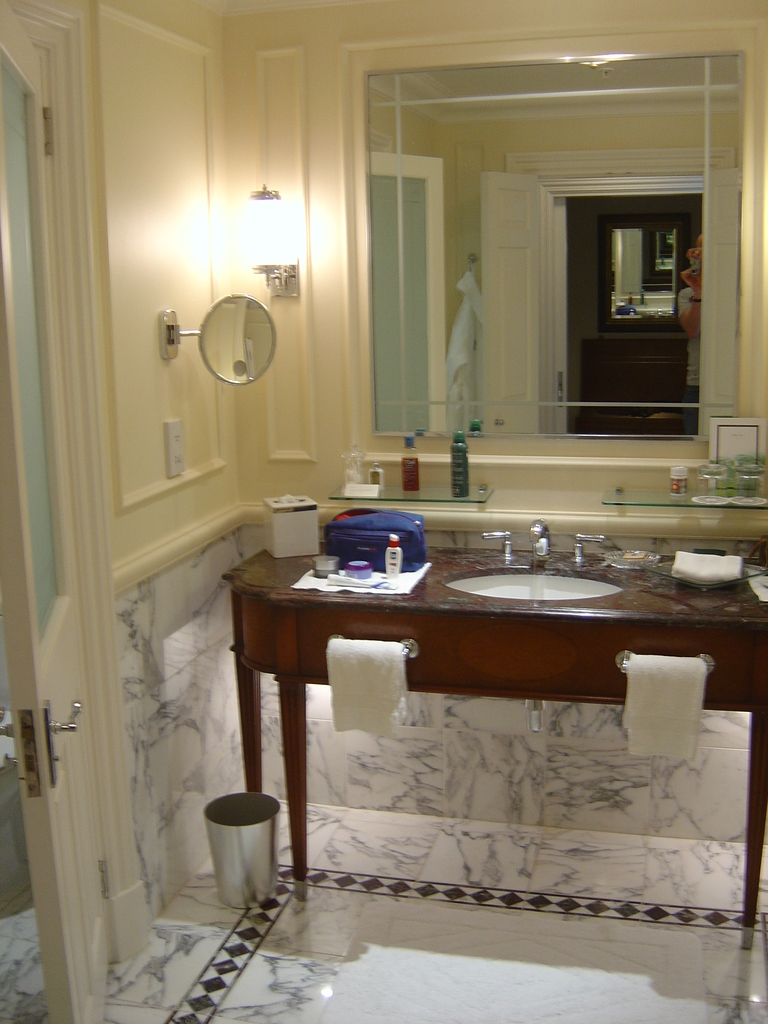tap: (531, 518, 551, 551)
